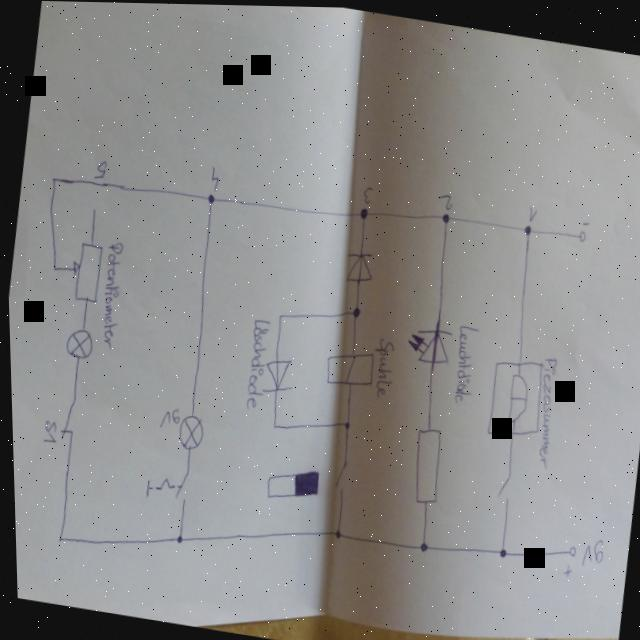diode: (400, 323, 454, 370), (259, 354, 296, 397), (342, 248, 375, 286)
inductor: (321, 344, 375, 391)
junction: (493, 544, 506, 559), (349, 305, 361, 320), (357, 206, 369, 221), (415, 540, 427, 554), (521, 223, 533, 236), (329, 528, 340, 542), (440, 211, 451, 224), (205, 193, 215, 206), (49, 174, 59, 187), (172, 534, 182, 546), (53, 535, 63, 546), (341, 419, 349, 430), (269, 422, 276, 432), (276, 313, 283, 321), (51, 266, 58, 273)
resistor: (405, 420, 446, 507), (66, 240, 107, 308)
switch: (141, 465, 189, 506), (57, 397, 76, 443), (331, 457, 350, 495), (492, 472, 513, 501)
terminal: (575, 227, 588, 242), (563, 543, 576, 557)
text: (526, 354, 563, 470), (93, 241, 130, 353), (240, 318, 272, 413), (447, 325, 480, 404), (366, 335, 397, 402), (576, 535, 603, 568), (157, 405, 181, 430), (40, 421, 58, 445), (92, 159, 109, 183), (436, 190, 455, 211), (208, 166, 221, 192), (361, 184, 375, 205), (526, 205, 538, 222)
